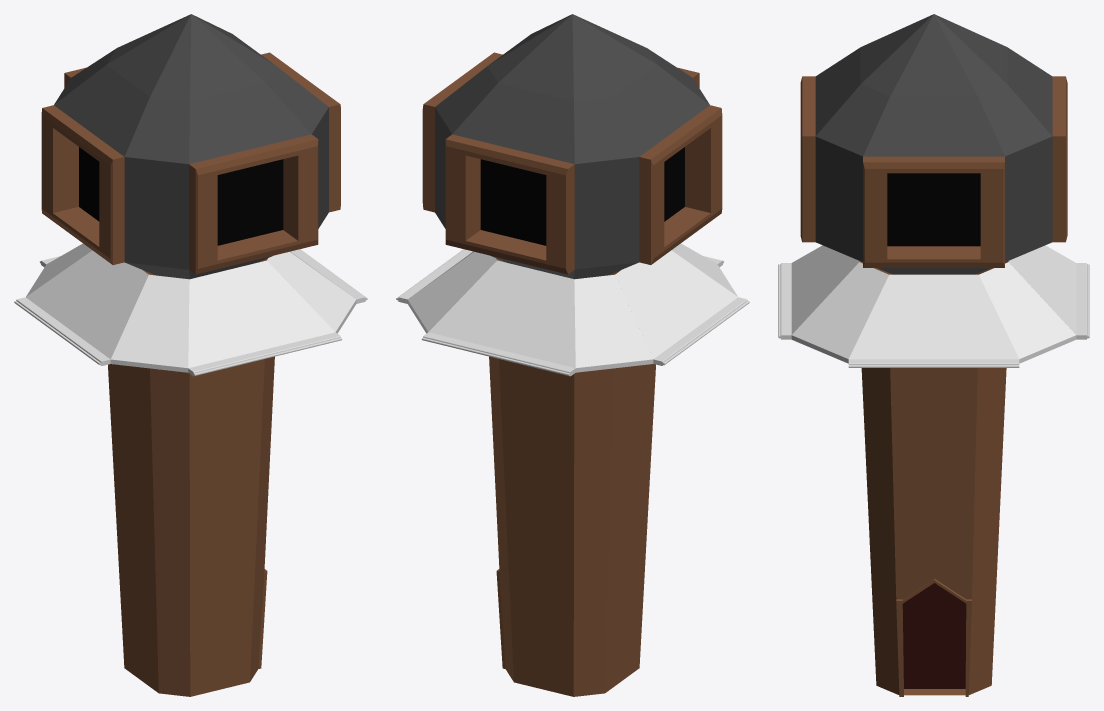
3 renders of one model, left to right at view 1: azimuth 30°, elevation 25°; view 2: azimuth 150°, elevation 25°; view 3: azimuth 270°, elevation 25°, orthographic.
Parts seen in each view (by area): view 1: Cube; view 2: Cube; view 3: Cube.
Part boxes in pixels (x1,y1,x2,y2): Cube: [14, 14, 367, 696]; Cube: [396, 14, 749, 696]; Cube: [778, 14, 1089, 696].
Bounding box in the file's own units: 1349 × 3142 × 1349.
